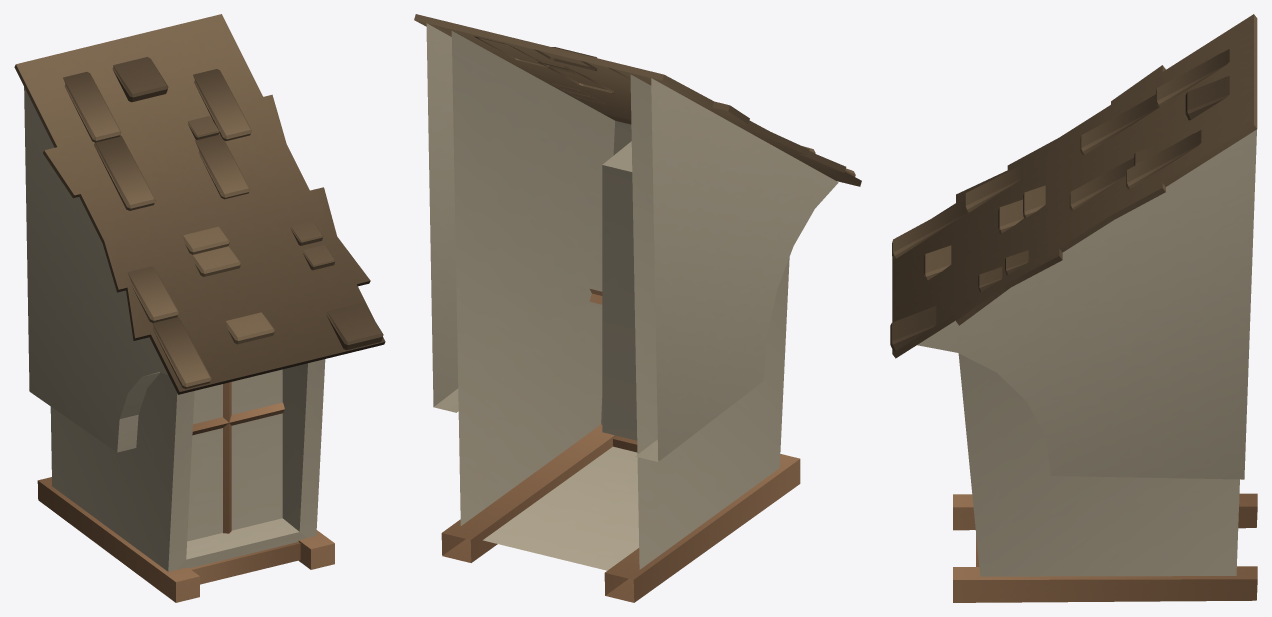
The model's file is ZLP_Build_A_23.FBX.
3 views of the same model, side by side, from view 1: azimuth 30°, elevation 25°; view 2: azimuth 150°, elevation 25°; view 3: azimuth 270°, elevation 25° (orthographic). The views are drawn at different scales.
Visible parts, largest first — view 1: ZLP_Build_A_23; view 2: ZLP_Build_A_23; view 3: ZLP_Build_A_23.
Part boxes in pixels (<box>): ZLP_Build_A_23: <box>14,14,385,602</box>; ZLP_Build_A_23: <box>414,14,861,602</box>; ZLP_Build_A_23: <box>890,14,1257,602</box>.
Size of the model in its own units: 142 by 256 by 174.
